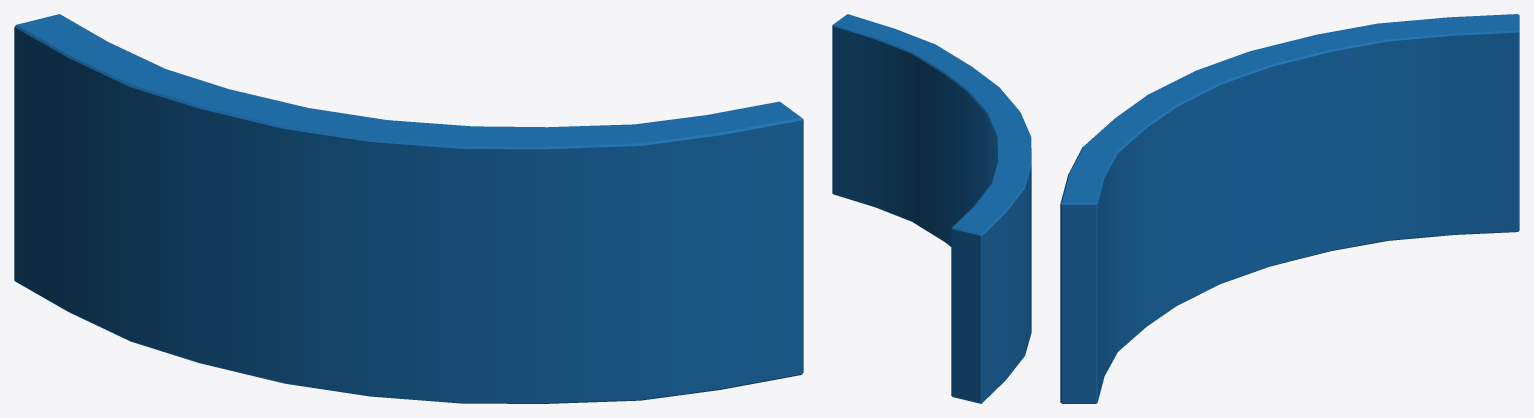
File: Edge_Turn_90_01.fbx
3 renders of one model, left to right at view 1: azimuth 30°, elevation 25°; view 2: azimuth 150°, elevation 25°; view 3: azimuth 270°, elevation 25°, orthographic. The views are drawn at different scales.
Parts seen in each view (by area): view 1: Edge_Turn_90_01; view 2: Edge_Turn_90_01; view 3: Edge_Turn_90_01.
Part boxes in pixels (bbox=[...]): Edge_Turn_90_01: bbox=[14, 14, 803, 403]; Edge_Turn_90_01: bbox=[832, 14, 1031, 403]; Edge_Turn_90_01: bbox=[1060, 14, 1519, 403].
Bounding box in the file's own units: 5.87 × 2.9 × 6.
